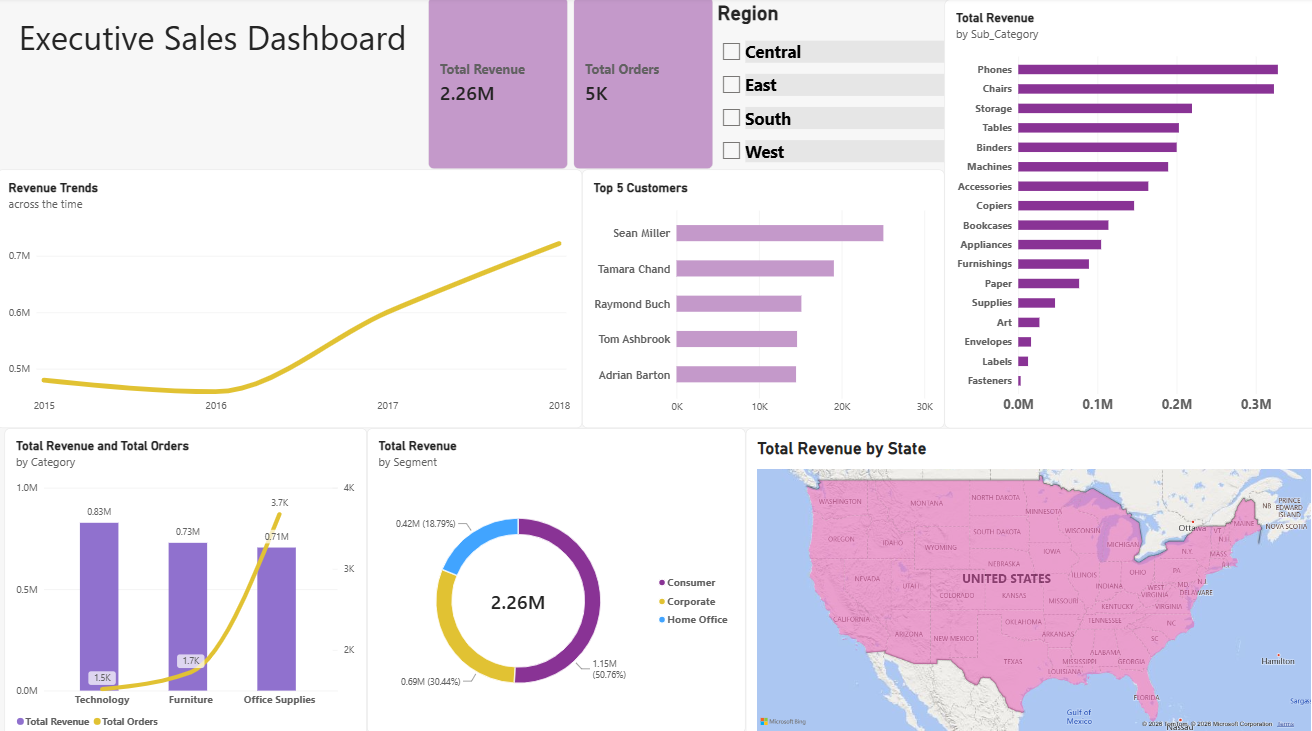

Layout of this report page (visuals, bound fields, positions):
{"tool":"powerbi","page":{"name":"Page 1","canvas":[1920,1080],"ordinal":0},"visuals":[{"type":"cardVisual","fields":{"Data":["Store_Sales_Clean.Total Revenue","Store_Sales_Clean.Total Orders"]},"box":[624.3,0,412.6,249.7],"z":0},{"type":"lineChart","title":"Revenue Trends","fields":{"Category":["Calendar.Year"],"Y":["Store_Sales_Clean.Total Revenue"]},"box":[0,249.7,846.9,374.6],"z":1000},{"type":"slicer","title":"Region","fields":{"Values":["Store_Sales_Clean.Region"]},"box":[1036.9,0,334.8,249.7],"z":2000},{"type":"clusteredBarChart","fields":{"Category":["Store_Sales_Clean.Sub_Category"],"Y":["Store_Sales_Clean.Total Revenue"]},"box":[1371.7,3.6,548.3,620.7],"z":3000},{"type":"filledMap","fields":{"Category":["Store_Sales_Clean.State"]},"box":[1084,624.3,836.1,456],"z":4000},{"type":"barChart","title":"Top 5 Customers","fields":{"Category":["Store_Sales_Clean.Customer_Name"],"Y":["Store_Sales_Clean.Total Revenue"]},"box":[846.9,249.7,524.8,374.6],"z":5000},{"type":"donutChart","fields":{"Y":["Store_Sales_Clean.Total Revenue"],"Category":["Store_Sales_Clean.Segment"]},"box":[535.7,624.3,548.3,441.6],"z":6000},{"type":"lineClusteredColumnComboChart","fields":{"Y":["Store_Sales_Clean.Total Revenue"],"Category":["Store_Sales_Clean.Category"],"Y2":["Store_Sales_Clean.Total Orders"]},"box":[10.9,624.3,524.8,456],"z":7000},{"type":"textbox","box":[0,5.4,624.3,245],"z":7001}]}

Visuals, with their boxes in screenshot pixels (x1, y1, x2, y2), scaled from the page's 1920x1080 canvas onto the 1312x731 screenshot:
cardVisual - Store_Sales_Clean.Total Revenue x Store_Sales_Clean.Total Orders: (427, 0, 709, 169)
"Revenue Trends" lineChart: (0, 169, 579, 423)
"Region" slicer: (709, 0, 937, 169)
clusteredBarChart - Store_Sales_Clean.Sub_Category x Store_Sales_Clean.Total Revenue: (937, 2, 1311, 423)
filledMap - Store_Sales_Clean.State: (741, 423, 1311, 730)
"Top 5 Customers" barChart: (579, 169, 937, 423)
donutChart - Store_Sales_Clean.Total Revenue x Store_Sales_Clean.Segment: (366, 423, 741, 721)
lineClusteredColumnComboChart - Store_Sales_Clean.Total Revenue x Store_Sales_Clean.Category: (7, 423, 366, 730)
textbox: (0, 4, 427, 169)
